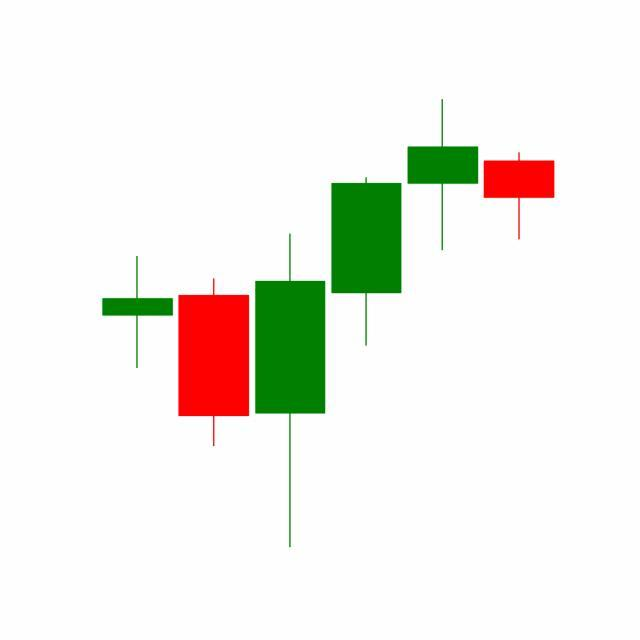Advance Block: (252, 99, 482, 549)
